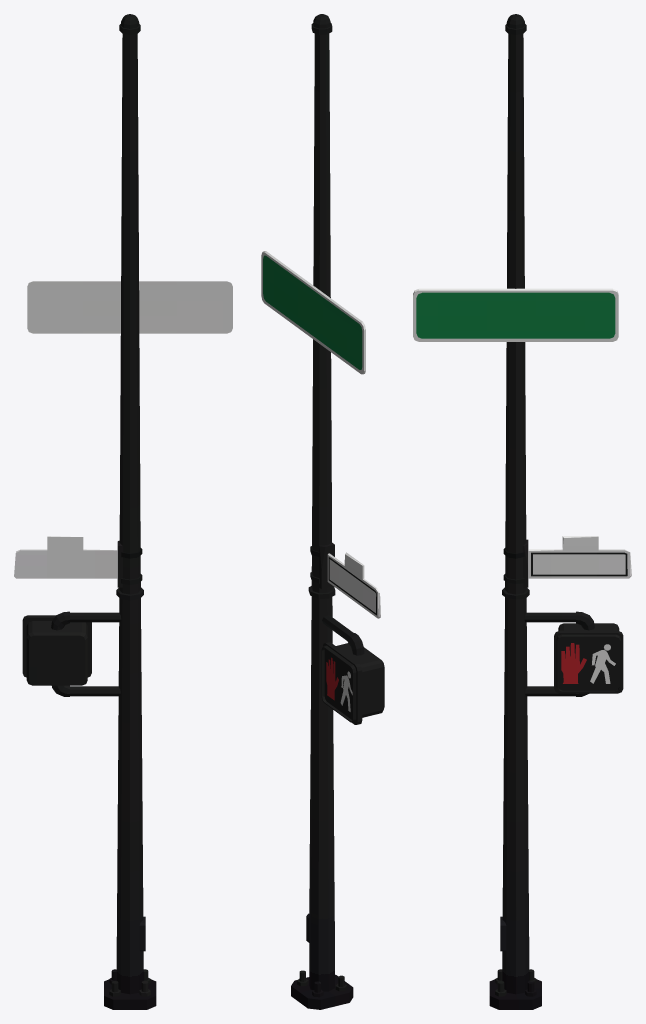
The model's file is LightPole01.fbx.
3 renders of one model, left to right at view 1: azimuth 90°, elevation 25°; view 2: azimuth 210°, elevation 25°; view 3: azimuth 270°, elevation 25°, orthographic.
Visible parts, largest first — view 1: SM_City_LightPole_01b.mo; view 2: SM_City_LightPole_01b.mo; view 3: SM_City_LightPole_01b.mo.
Part boxes in pixels (box(x1,y1,x2,y2)): SM_City_LightPole_01b.mo: box(14, 14, 232, 1009); SM_City_LightPole_01b.mo: box(261, 14, 384, 1009); SM_City_LightPole_01b.mo: box(413, 14, 631, 1009).
Bounding box in the file's own units: 39.79 × 824 × 166.
